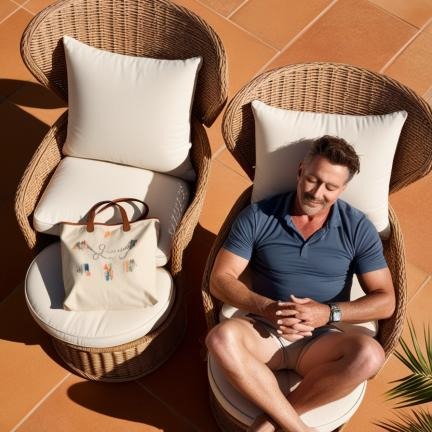guest on chair: (202, 62, 432, 432)
occupied chair: (16, 0, 228, 381)
